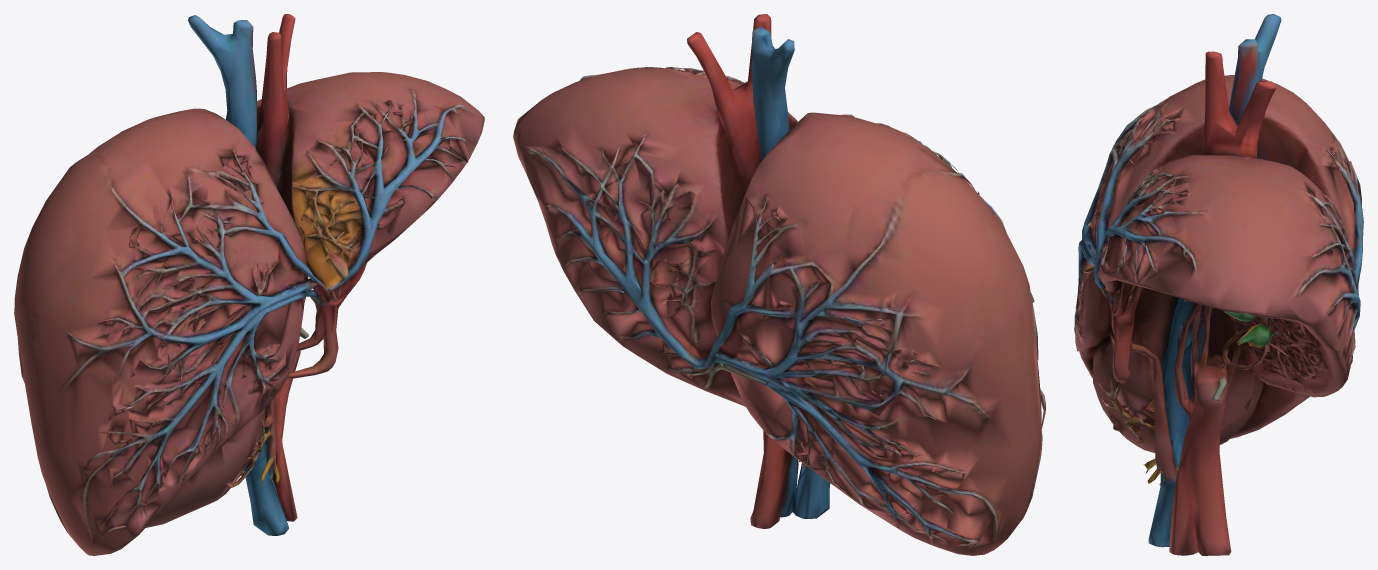
File: liver-lod1.glb
The picture shows the model from 3 angles, left to right: view 1: azimuth 30°, elevation 25°; view 2: azimuth 150°, elevation 25°; view 3: azimuth 270°, elevation 25°; orthographic projection. The views are drawn at different scales.
Parts seen in each view (by area): view 1: tripo_node_1c7e641c-603f-41bd-b81d-f90f99063845; view 2: tripo_node_1c7e641c-603f-41bd-b81d-f90f99063845; view 3: tripo_node_1c7e641c-603f-41bd-b81d-f90f99063845.
Boxes of the visible parts, x1,y1,x2,y2 form: tripo_node_1c7e641c-603f-41bd-b81d-f90f99063845: (14, 14, 484, 555); tripo_node_1c7e641c-603f-41bd-b81d-f90f99063845: (513, 14, 1045, 555); tripo_node_1c7e641c-603f-41bd-b81d-f90f99063845: (1074, 14, 1363, 555).
Bounding box in the file's own units: 0.9928 × 0.9985 × 0.5117.
Materials: 1 (1 with a texture image).
